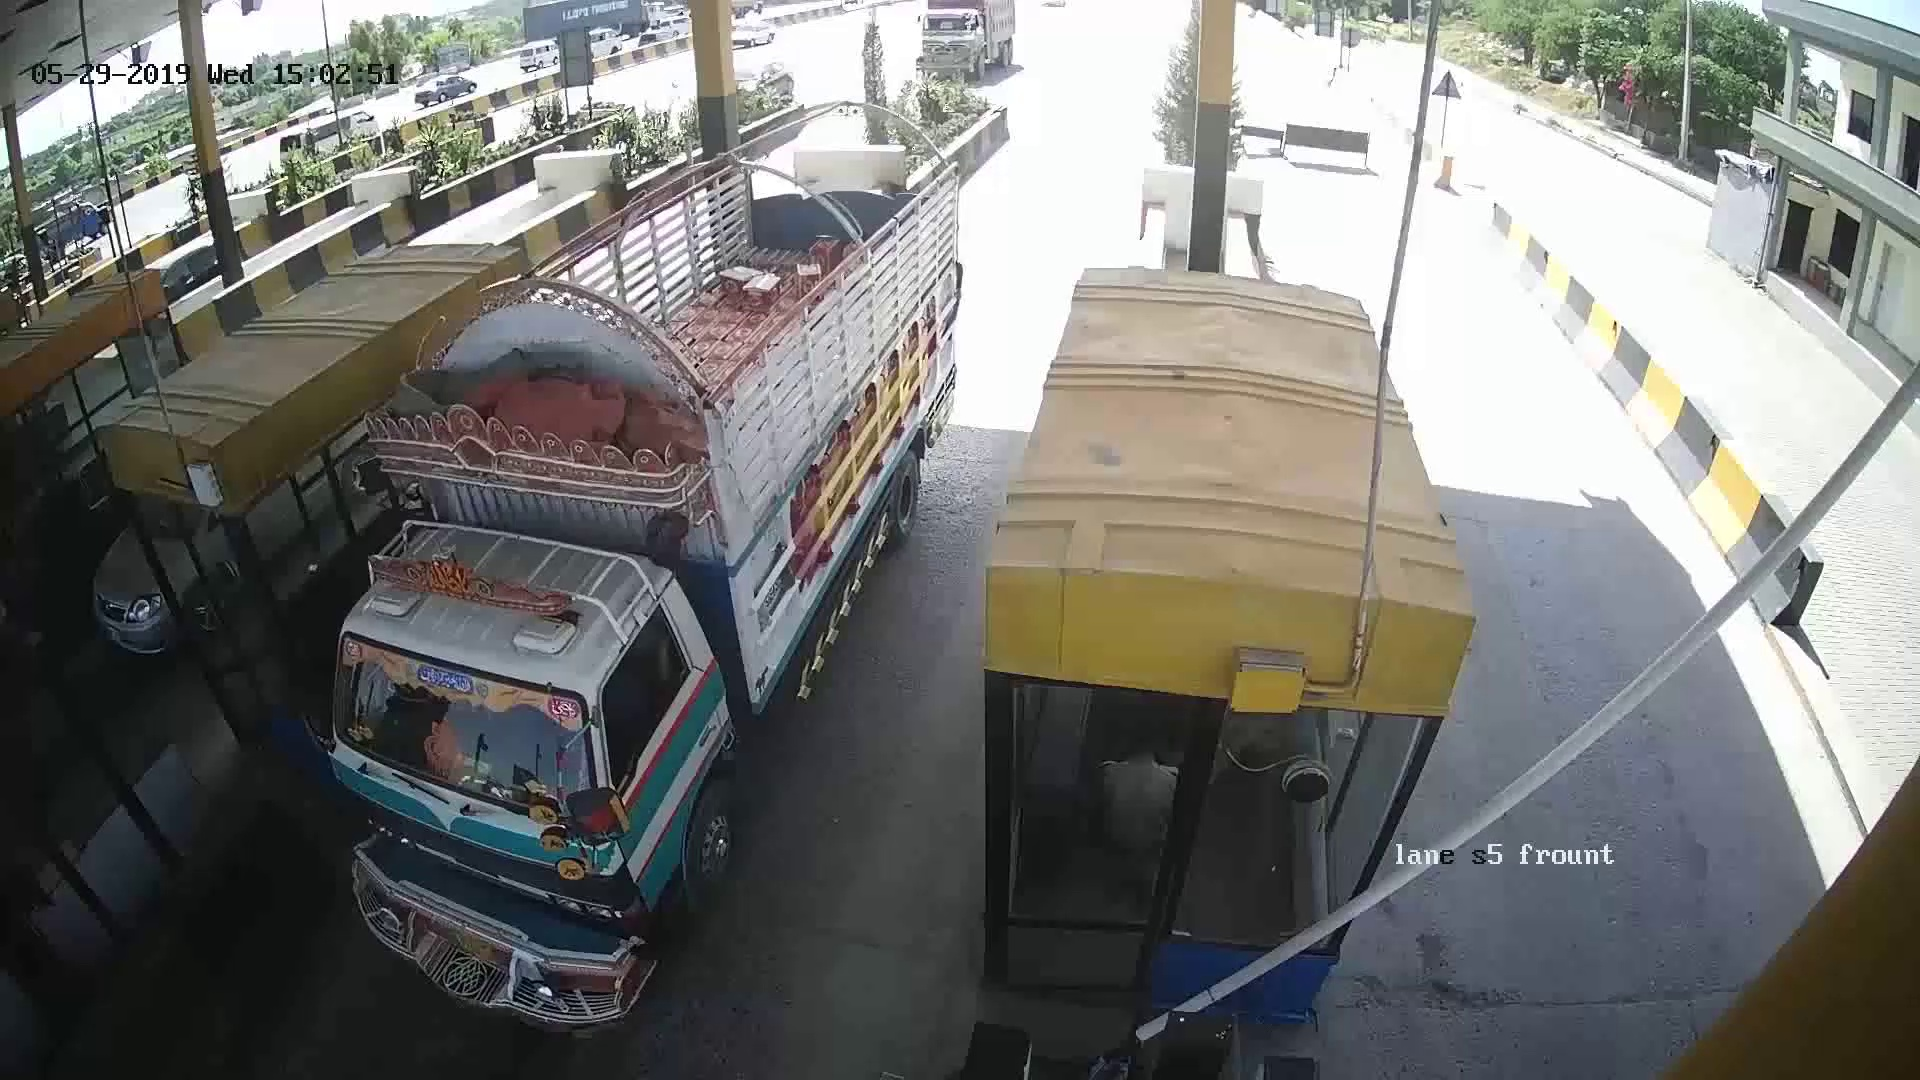truck: (413, 177, 964, 1042)
